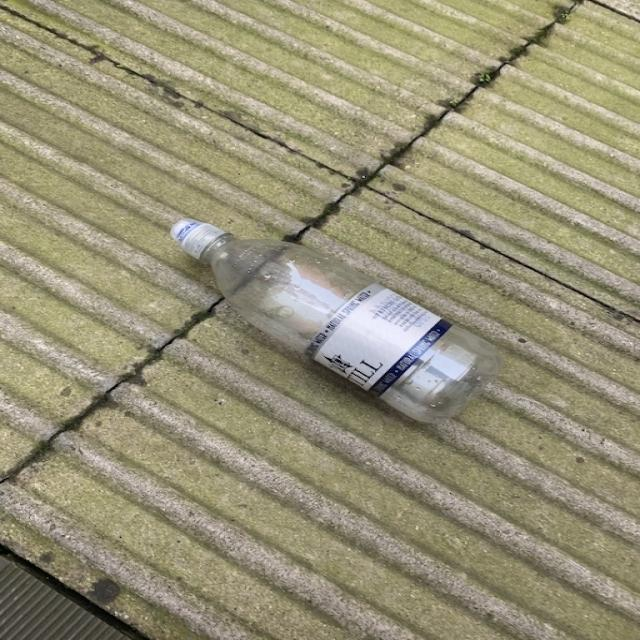Waste: (170, 218, 502, 424)
